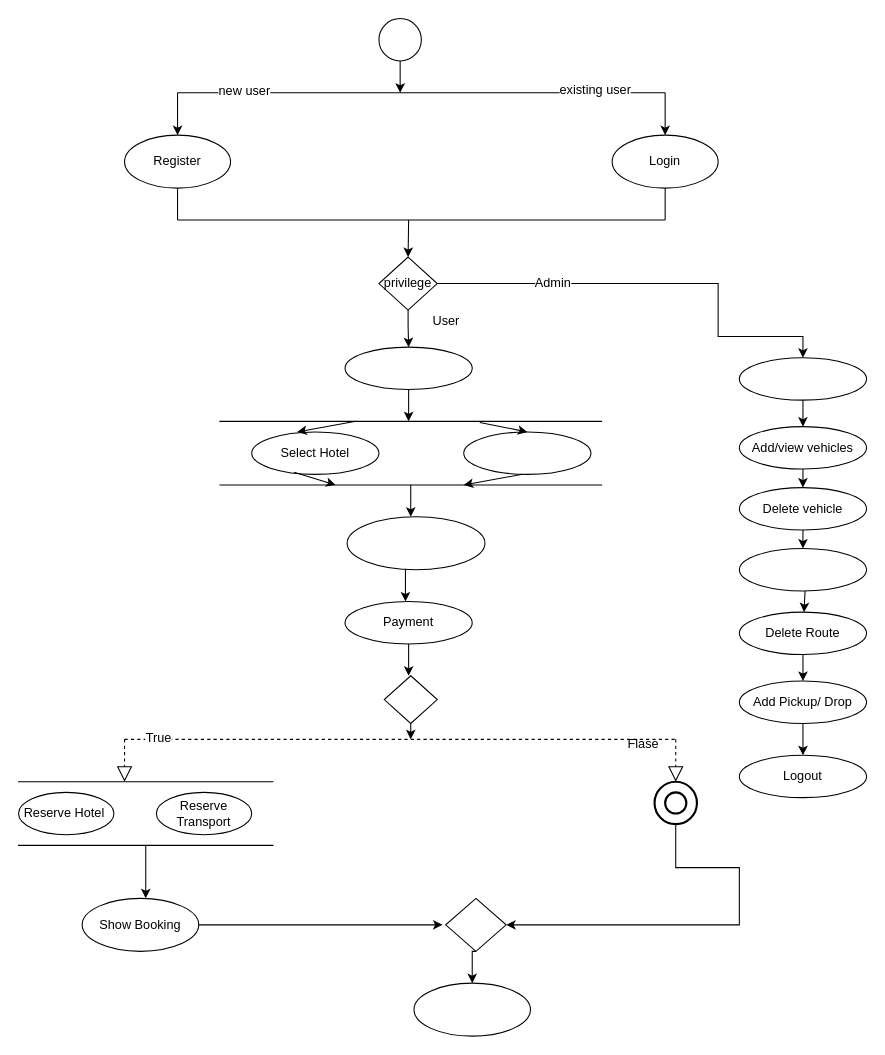
Image size: 885x1055. Some labels were removed from this diagram. Here are the shapes that lost their labels. From the top down, the centre of each, then its label:
At (408,368): "Make Reservation".
At (802,378): "Add/view travel".
At (527,452): "Select Transport".
At (415,543): "Process Booking".
At (802,569): "Add/view Route".
At (472,1009): "Print Booking".
